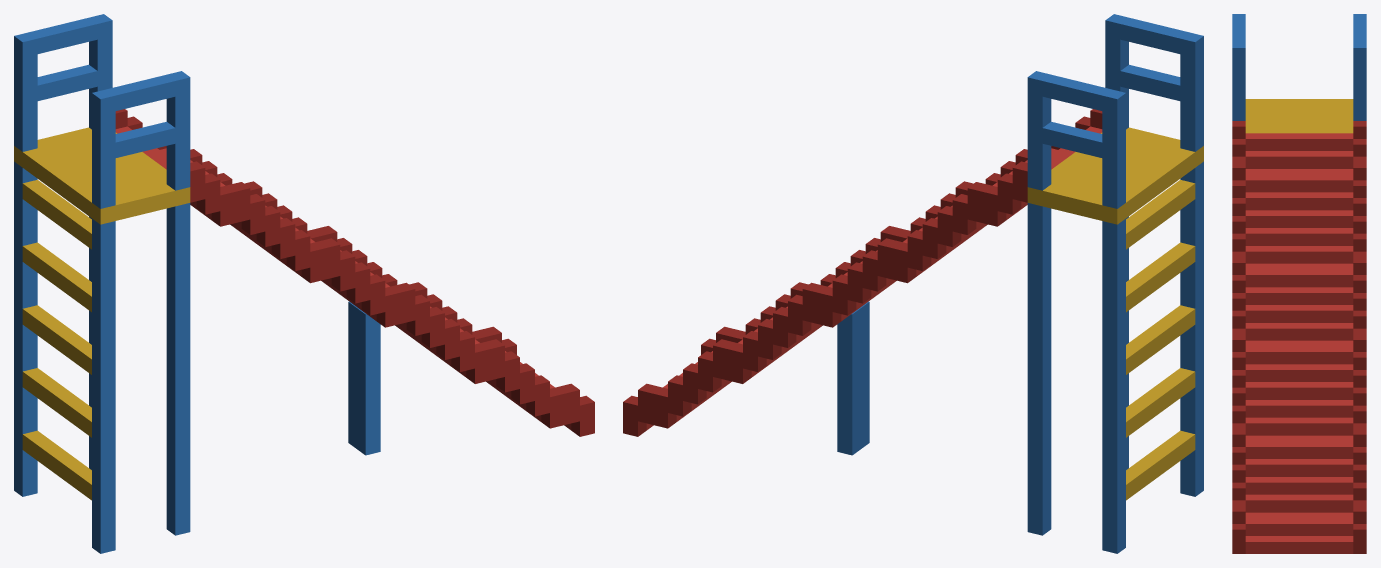
The model's file is playground-slide.glb.
3 renders of one model, left to right at view 1: azimuth 30°, elevation 25°; view 2: azimuth 150°, elevation 25°; view 3: azimuth 270°, elevation 25°, orthographic. The views are drawn at different scales.
Parts seen in each view (by area): view 1: prop; view 2: prop; view 3: prop.
Part boxes in pixels (x1,y1,x2,y2): prop: [14, 14, 594, 553]; prop: [623, 14, 1203, 553]; prop: [1232, 14, 1366, 553].
Bounding box in the file's own units: 17.07 × 15 × 5.17.
